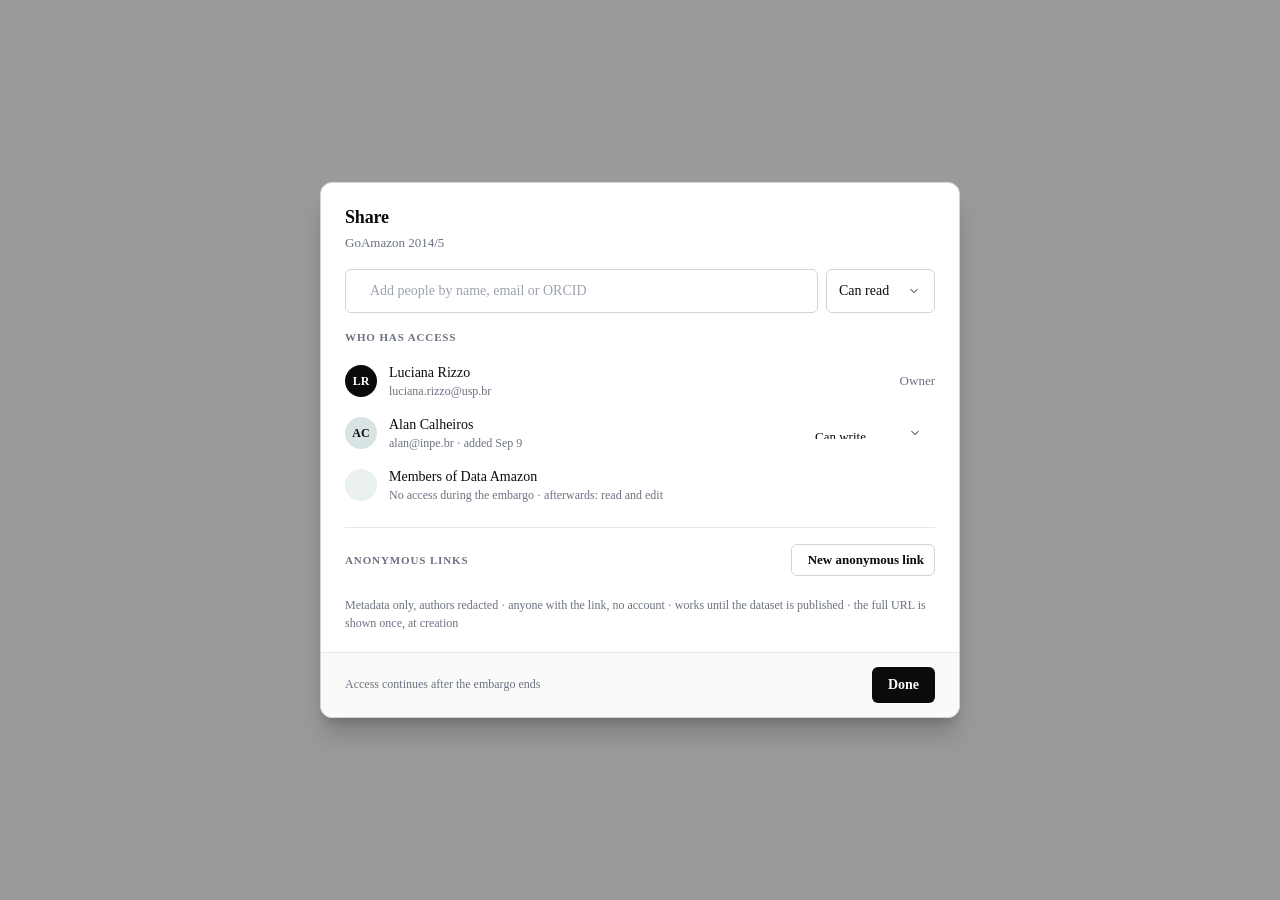
ShareDialog › a refusal is shown in words
This screenshot has width=1280, height=900.
Type "joao@inpe.br" into the field labelled "Add people by name, email or ORCID". click: coordinates (586, 291)
box: [370,270,803,312]
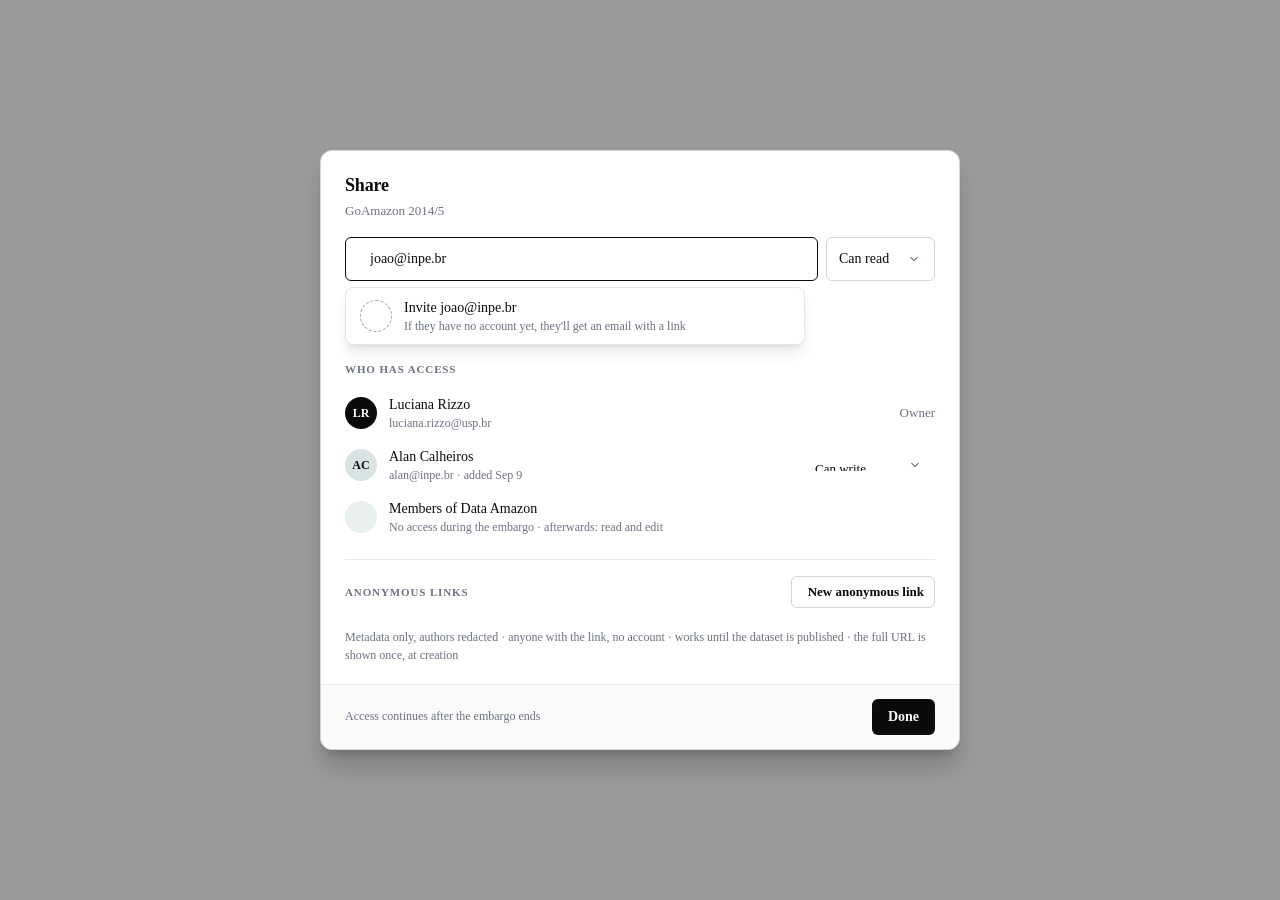
Click the button "Invite joao@inpe.br". click: coordinates (575, 316)
box: [346,288,804,344]
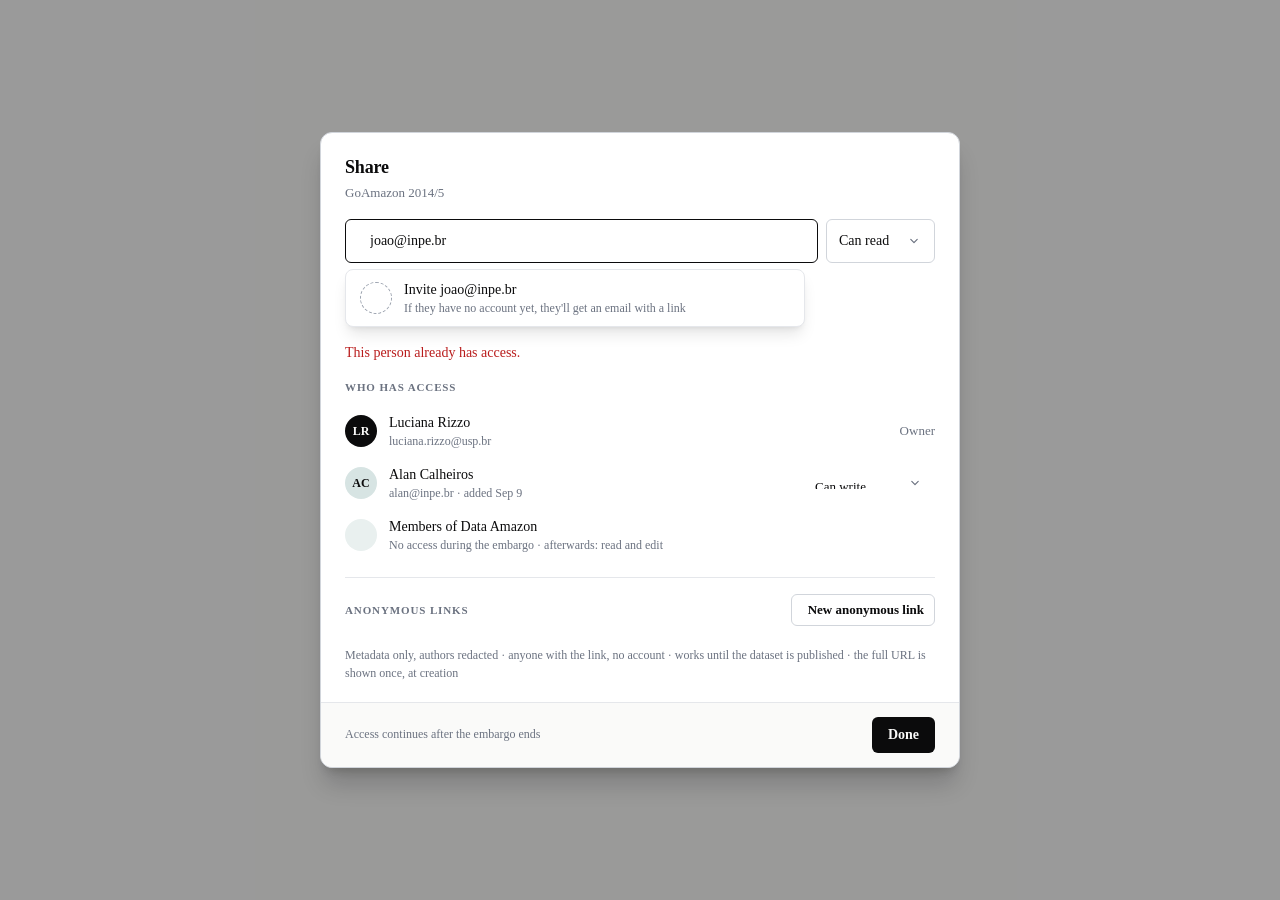
Check: the text "This person already has access." is shown, box [345,345,520,360]
